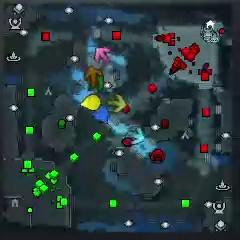p1: (92, 105, 109, 123)
p4: (81, 95, 100, 110)
x1: (95, 46, 111, 63)
x2: (110, 95, 124, 113)
x3: (128, 127, 144, 146)
x4: (95, 73, 105, 91)
x5: (84, 65, 103, 89)
